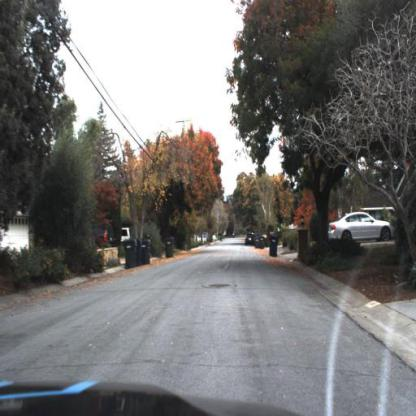car: (325, 205, 395, 247), (91, 214, 116, 248), (118, 226, 133, 243)
